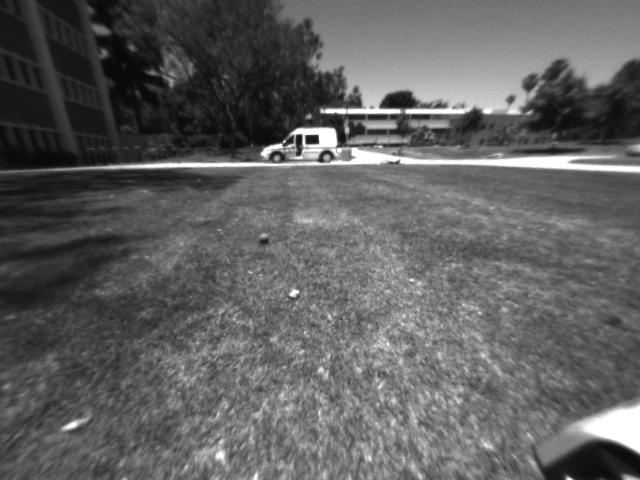dogtoy: (248, 218, 283, 254)
